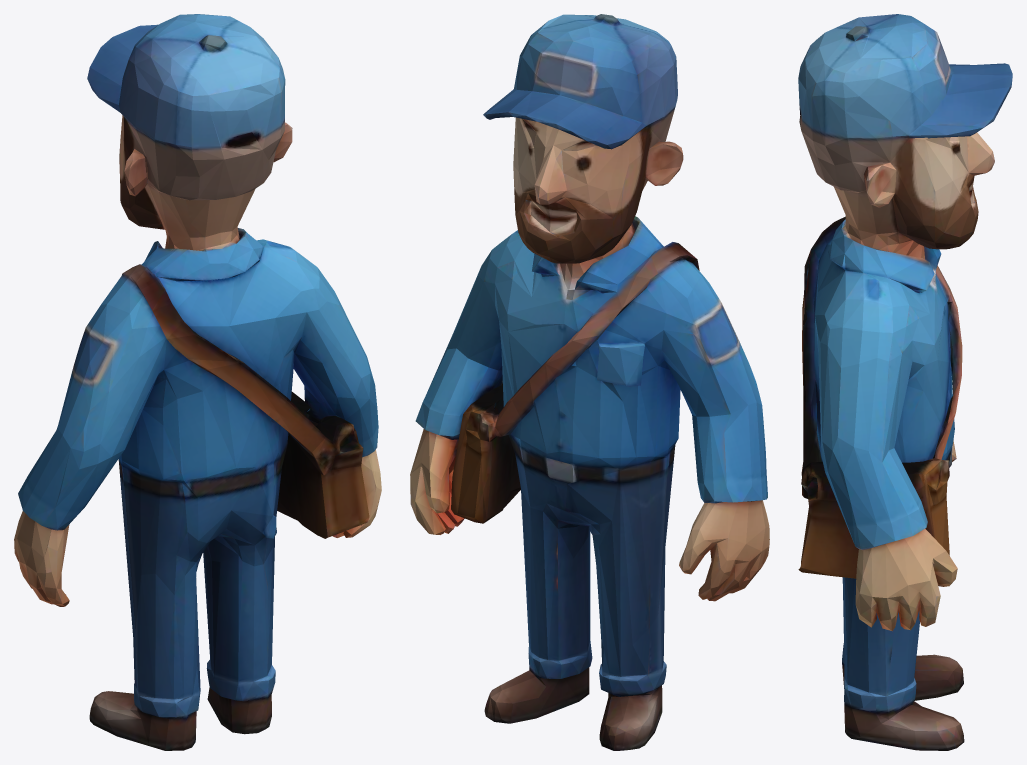
Rendered from citizen-d.glb.
3 views of the same model, side by side, from view 1: azimuth 30°, elevation 25°; view 2: azimuth 150°, elevation 25°; view 3: azimuth 270°, elevation 25° (orthographic). The views are drawn at different scales.
Visible parts, largest first — view 1: geometry_0; view 2: geometry_0; view 3: geometry_0.
Boxes of the visible parts, x1=… form: geometry_0: x1=14, y1=14, x2=381, y2=750; geometry_0: x1=410, y1=14, x2=769, y2=750; geometry_0: x1=798, y1=14, x2=1012, y2=750.
Size of the model in its own units: 0.5212 by 0.9999 by 0.2824.
Materials: 1 (1 with a texture image).
